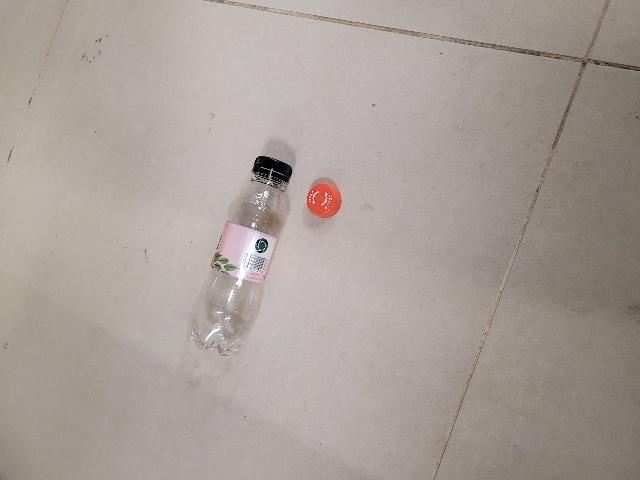Plastik: (189, 150, 291, 360), (308, 181, 344, 220)
